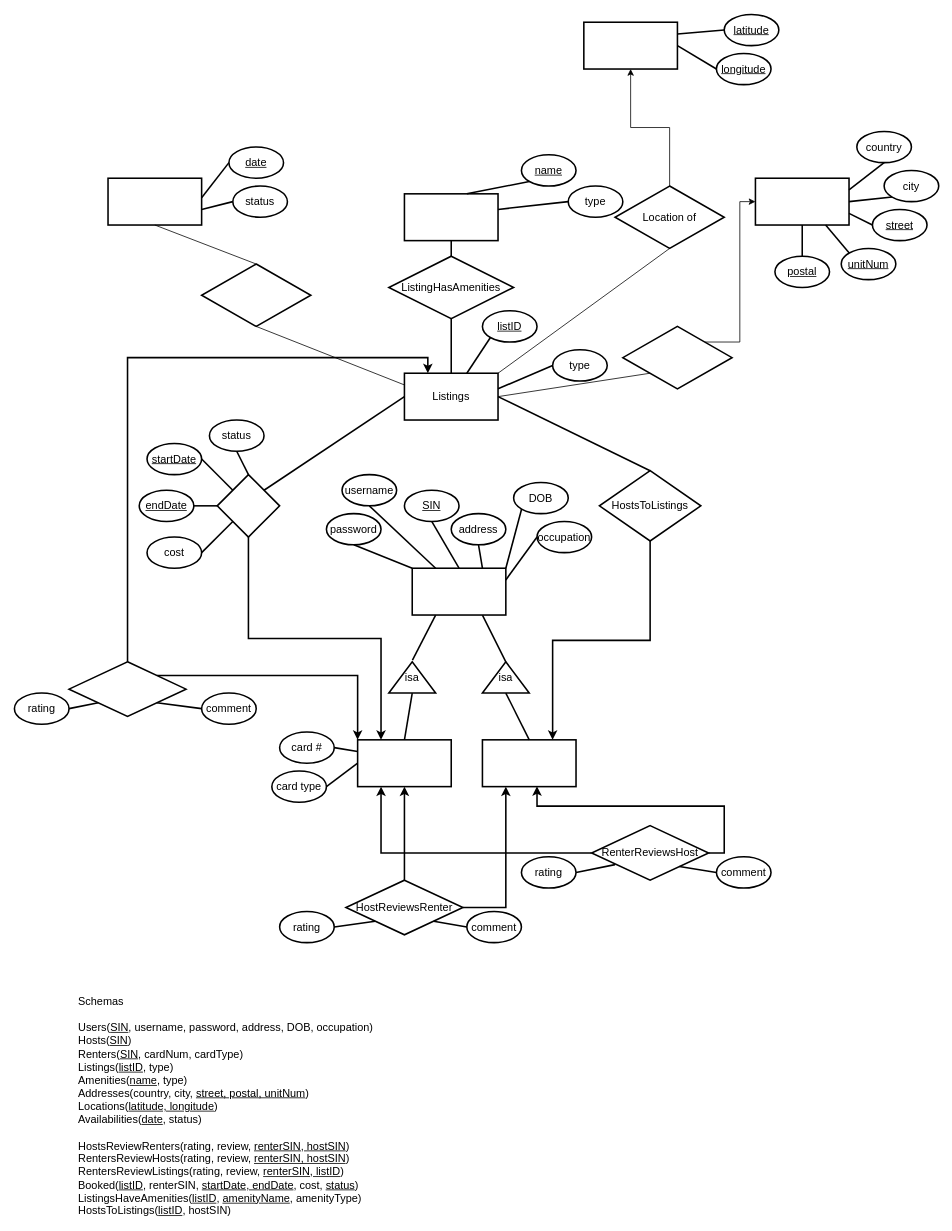
Some shapes in this 952 by 1231 pixel diagram are drawn without their labels. The box of each missing label's shape, as (x1, y1, x2, y2) in pixels:
Address of: (622, 325, 732, 389)
Addresses: (754, 177, 849, 225)
Amenities: (403, 193, 498, 241)
Availabilities: (107, 177, 202, 225)
Available During: (200, 263, 311, 327)
Booked: (216, 473, 280, 537)
Hosts: (481, 739, 576, 787)
Locations: (583, 21, 678, 69)
RenterReviewsListing: (68, 661, 186, 717)
Renters: (356, 739, 452, 787)
Users: (411, 567, 506, 615)
